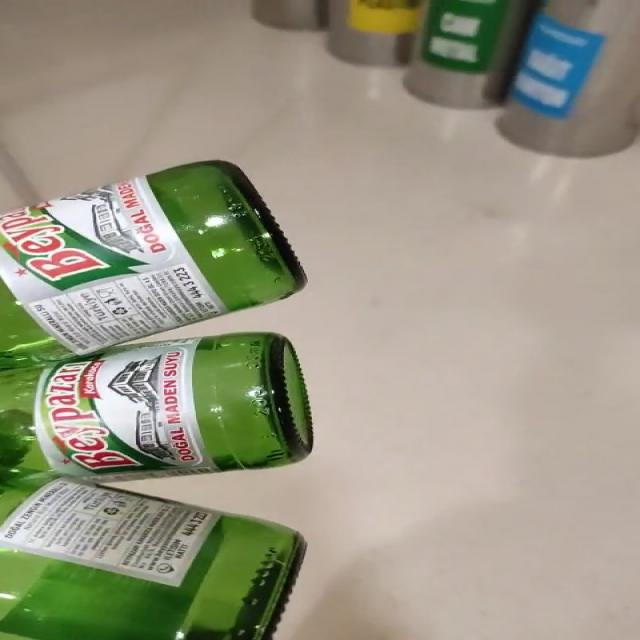glass: (0, 161, 312, 640)
